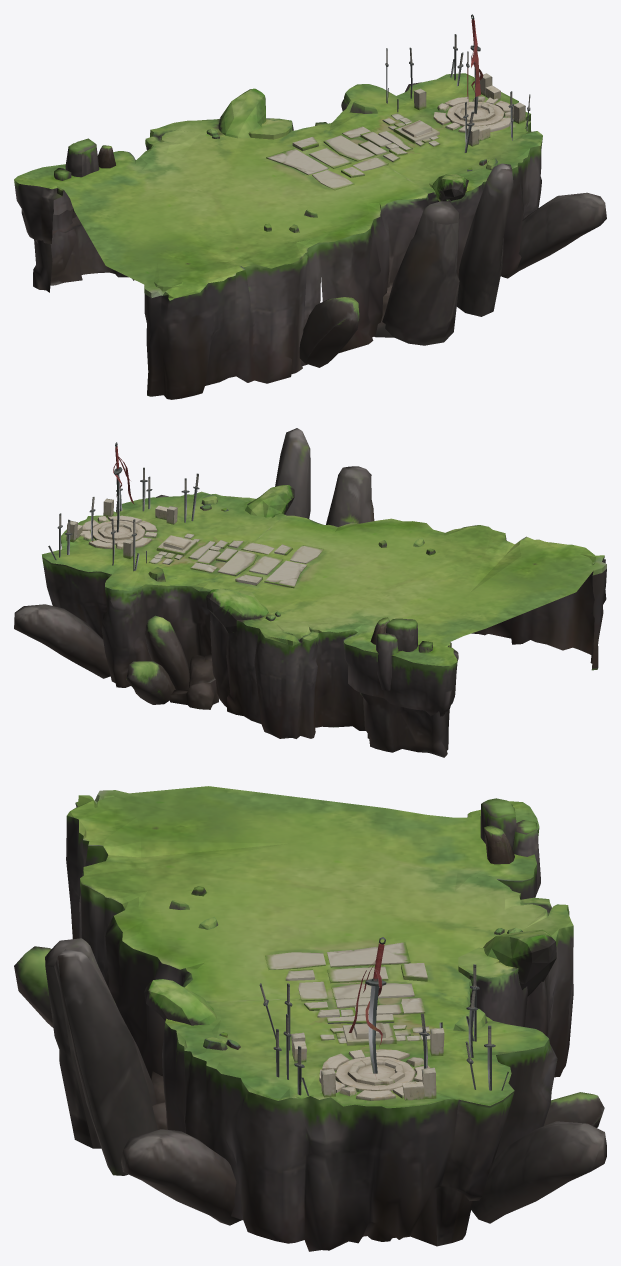
File: Area_05_6.fbx
The picture shows the model from 3 angles, top to bottom: view 1: azimuth 30°, elevation 25°; view 2: azimuth 150°, elevation 25°; view 3: azimuth 270°, elevation 25°; orthographic projection. The views are drawn at different scales.
Visible parts, largest first — view 1: Area_05_6; view 2: Area_05_6; view 3: Area_05_6.
Part boxes in pixels (left/top/right/bottom): Area_05_6: left=14, top=14, right=606, bottom=399; Area_05_6: left=14, top=428, right=606, bottom=757; Area_05_6: left=14, top=786, right=606, bottom=1251.
Bounding box in the file's own units: 4823 × 2098 × 3725.
